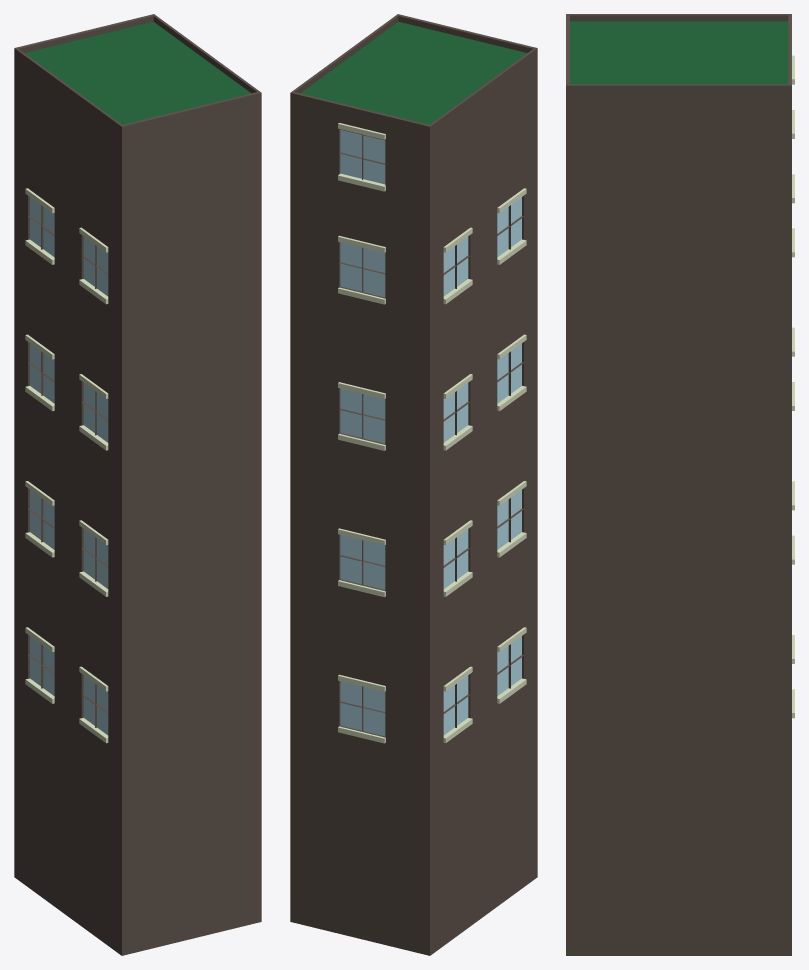
Rendered from Nanumgwan_Pilla_L.glb.
The picture shows the model from 3 angles, left to right: view 1: azimuth 30°, elevation 25°; view 2: azimuth 150°, elevation 25°; view 3: azimuth 270°, elevation 25°; orthographic projection. The views are drawn at different scales.
Visible parts, largest first — view 1: back_L; view 2: back_L; view 3: back_L.
Boxes of the visible parts, x1,y1,x2,y2 form: back_L: (14,14,261,955); back_L: (290,14,537,955); back_L: (566,14,794,955).
Bounding box in the file's own units: 30.5 × 170 × 40.5.
